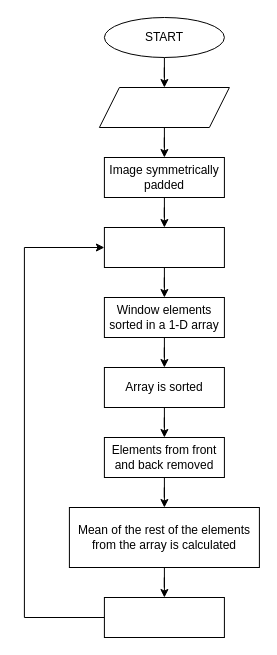
This 277x655 diagram has some shape labels left out. The box of each missing label's shape, as (x1, y1, x2, y2) in pixels:
5x5 window created around image pixel: (103, 226, 224, 268)
Denoised image: (103, 596, 224, 638)
Read Noisy Image: (98, 86, 229, 128)
